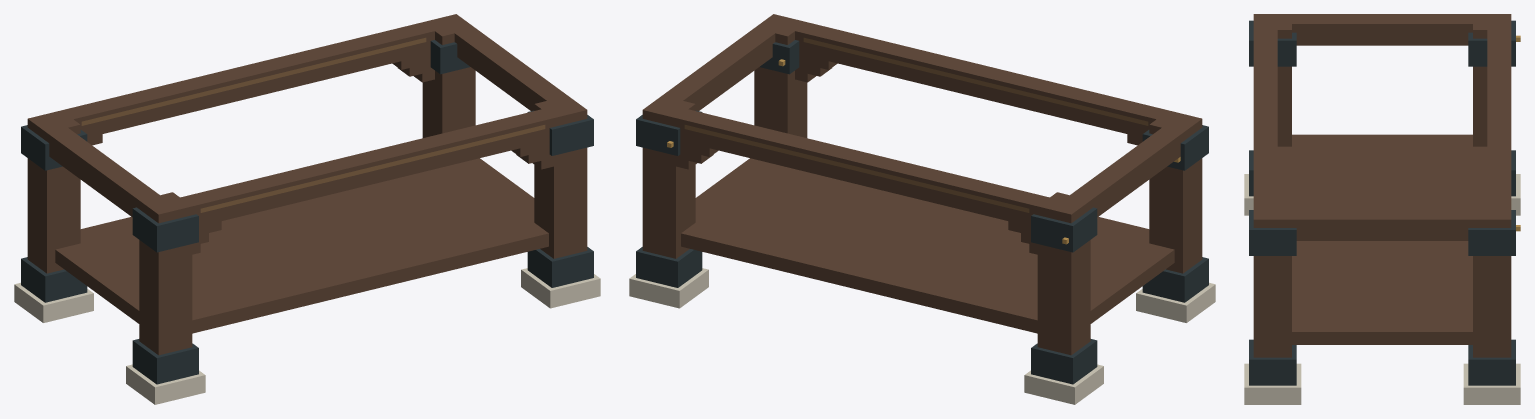
3 renders of one model, left to right at view 1: azimuth 30°, elevation 25°; view 2: azimuth 150°, elevation 25°; view 3: azimuth 270°, elevation 25°, orthographic.
Visible parts, largest first — view 1: 茶几桌架; view 2: 茶几桌架; view 3: 茶几桌架.
Part boxes in pixels (left/top/right/bottom): 茶几桌架: left=14, top=14, right=600, bottom=404; 茶几桌架: left=629, top=14, right=1215, bottom=404; 茶几桌架: left=1244, top=14, right=1520, bottom=404.
Size of the model in its own units: 1.06 by 0.42 by 0.58.
Materials: 5 (5 with a texture image).
